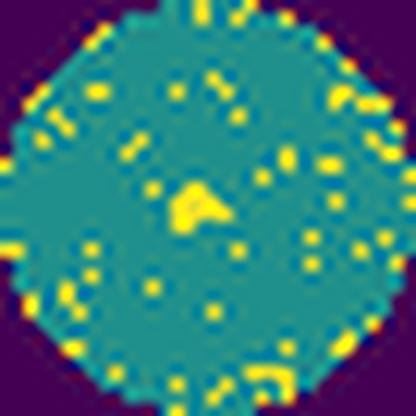Center: (164, 174, 242, 247)
